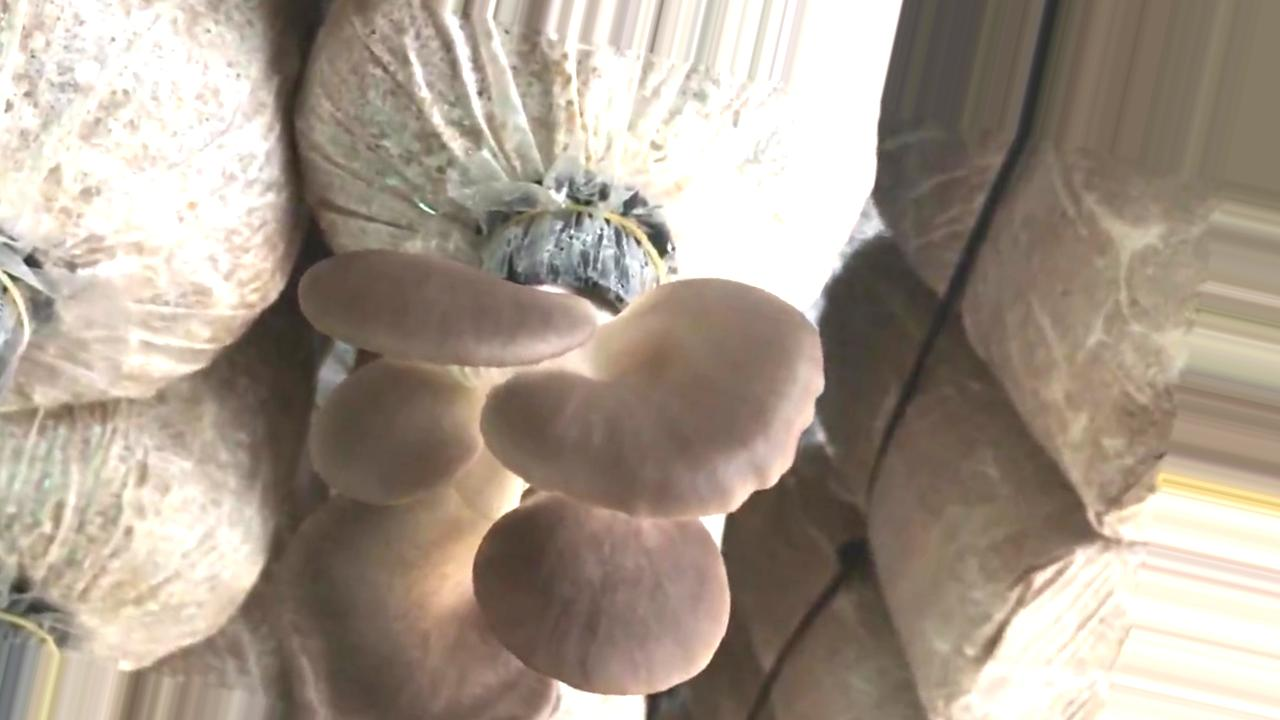nam: (271, 211, 824, 720)
